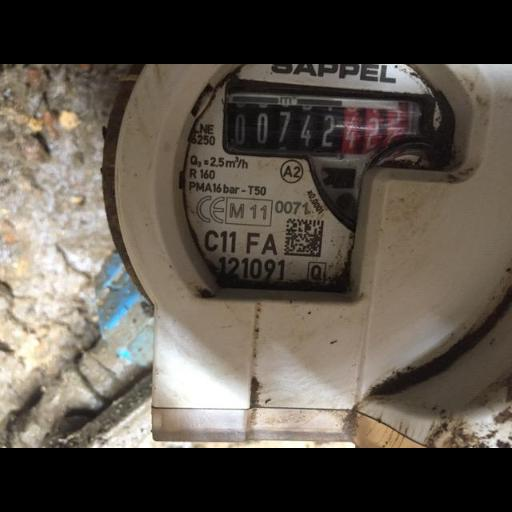0: (229, 102, 254, 150), (252, 103, 275, 151)
2: (317, 105, 341, 154), (363, 108, 381, 153)
4: (294, 104, 320, 153), (340, 106, 362, 155)
7: (272, 103, 297, 153)
border_water_meter_number: (221, 78, 436, 166)
